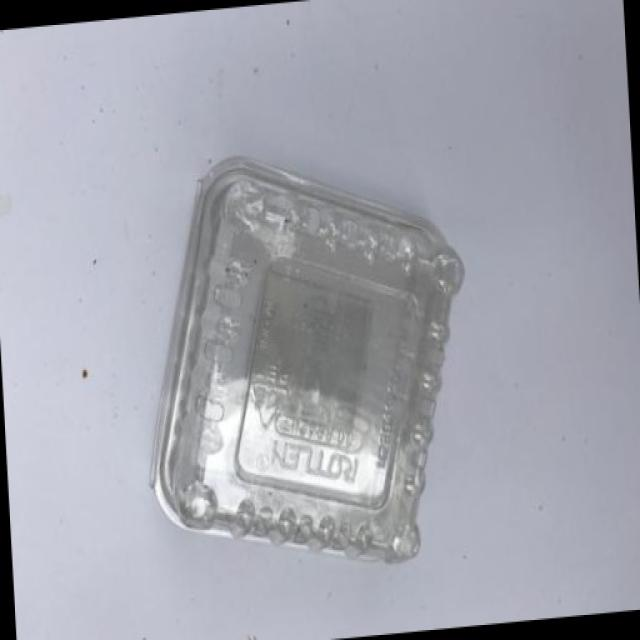plastico: (115, 123, 513, 619)
